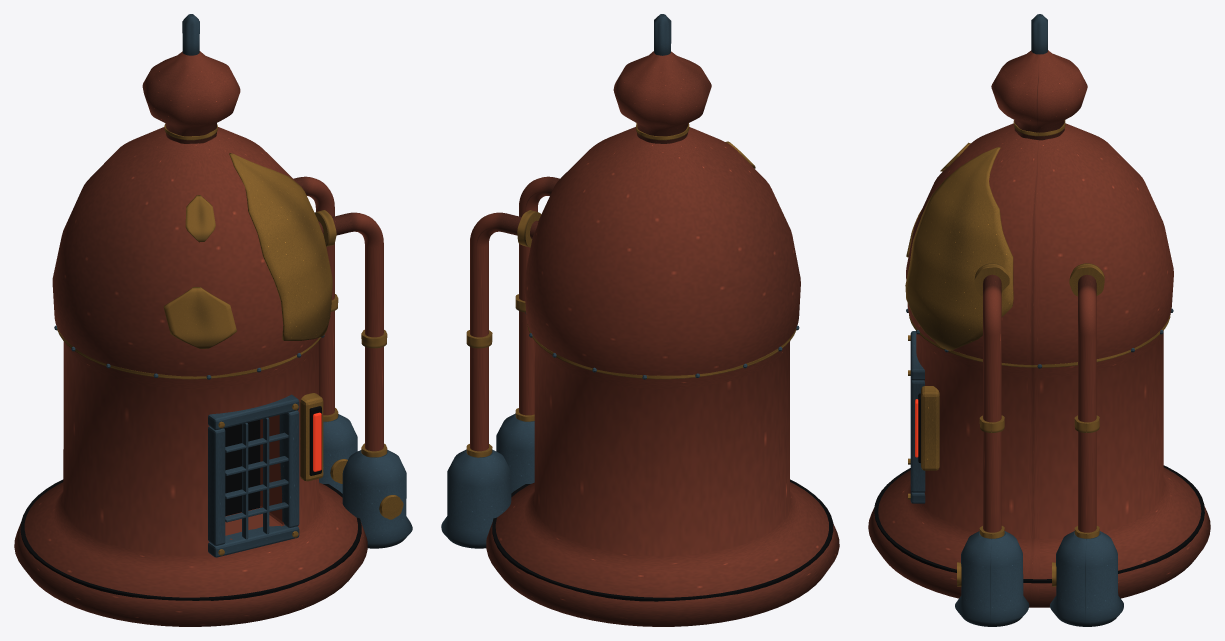
The picture shows the model from 3 angles, left to right: view 1: azimuth 30°, elevation 25°; view 2: azimuth 150°, elevation 25°; view 3: azimuth 270°, elevation 25°; orthographic projection. The views are drawn at different scales.
Parts seen in each view (by area): view 1: AC03 bell casing, AC03 upper brass facing, AC03 top bulb, AC03 copper riser 0, AC03 blue pump 0, AC03 lower left inspection facing, AC03 copper riser 1, AC03 intake dark rear wall, AC03 lower seam, AC03 intake rim right, AC03 intake rim left, AC03 blue pump 1 (+8 smaller); view 2: AC03 bell casing, AC03 top bulb, AC03 blue pump 1, AC03 copper riser 1, AC03 copper riser 0, AC03 blue pump 0, AC03 lower seam, AC03 shoulder seam, AC03 finial; view 3: AC03 bell casing, AC03 upper brass facing, AC03 top bulb, AC03 blue pump 0, AC03 blue pump 1, AC03 copper riser 0, AC03 copper riser 1, AC03 status surround, AC03 lower seam, AC03 intake rim right, AC03 shoulder seam, AC03 shoulder pipe seat 1 (+3 smaller).
Boxes of the visible parts, x1,y1,x2,y2 form: AC03 bell casing: (14,127,367,626); AC03 upper brass facing: (229,153,332,340); AC03 top bulb: (142,51,240,143); AC03 copper riser 0: (318,212,383,451); AC03 blue pump 0: (342,450,412,548); AC03 lower left inspection facing: (163,287,236,348); AC03 copper riser 1: (293,176,334,415); AC03 intake dark rear wall: (224,419,260,516); AC03 lower seam: (20,479,361,600); AC03 intake rim right: (279,410,299,527); AC03 intake rim left: (208,426,225,545); AC03 blue pump 1: (319,414,357,493); AC03 bell casing: (486,127,839,626); AC03 top bulb: (613,51,711,143); AC03 blue pump 1: (441,449,511,548); AC03 copper riser 1: (470,212,538,451); AC03 copper riser 0: (519,176,559,415); AC03 blue pump 0: (496,413,534,493); AC03 lower seam: (492,479,833,601); AC03 shoulder seam: (527,324,796,379); AC03 finial: (654,14,671,55); AC03 bell casing: (868,123,1210,607); AC03 upper brass facing: (905,147,1013,350); AC03 top bulb: (991,50,1087,140); AC03 blue pump 0: (955,531,1029,626); AC03 blue pump 1: (1049,531,1123,626); AC03 copper riser 0: (983,274,1001,532); AC03 copper riser 1: (1078,274,1096,532); AC03 status surround: (921,386,939,470); AC03 lower seam: (874,465,1204,583); AC03 intake rim right: (910,379,925,492); AC03 shoulder seam: (909,314,1170,367); AC03 shoulder pipe seat 1: (1069,263,1104,296).
Bounding box in the file's own units: 1.87 × 2.8 × 1.66.
Materials: 5 (4 with a texture image).
